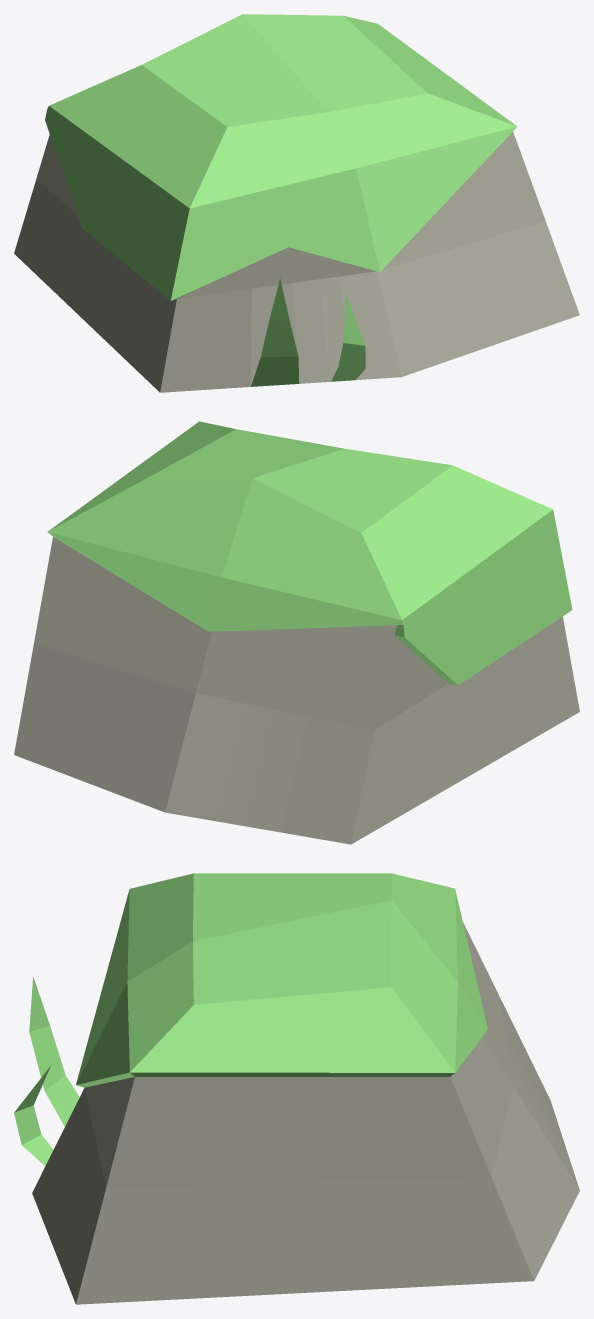
The model's file is rockobstacle.fbx.
3 views of the same model, one above another, from view 1: azimuth 30°, elevation 25°; view 2: azimuth 150°, elevation 25°; view 3: azimuth 270°, elevation 25° (orthographic). The views are drawn at different scales.
Parts seen in each view (by area): view 1: Cube.219; view 2: Cube.219; view 3: Cube.219.
Boxes of the visible parts, left/top/right/bottom form: Cube.219: left=14, top=14, right=579, bottom=392; Cube.219: left=14, top=421, right=579, bottom=844; Cube.219: left=14, top=873, right=579, bottom=1304.
Bounding box in the file's own units: 92.56 × 56.18 × 99.18.
